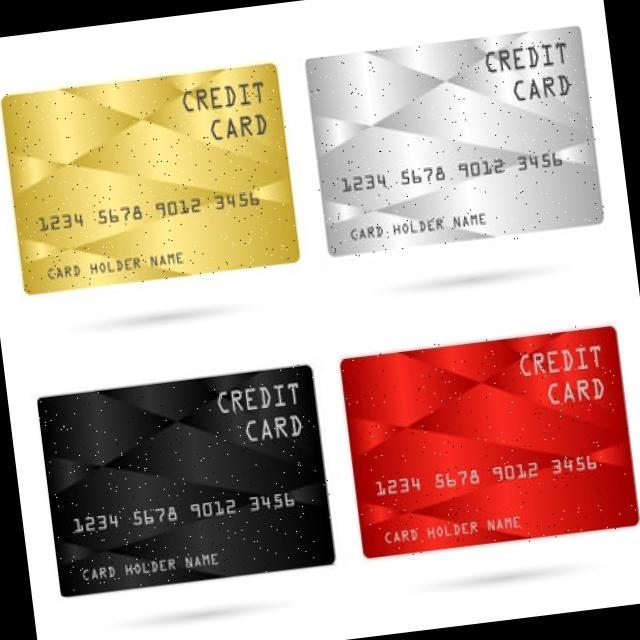payment_card: (37, 364, 338, 599), (339, 324, 638, 558), (3, 65, 298, 296)
